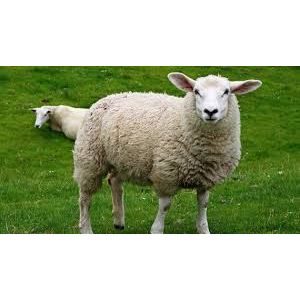sheep: (73, 72, 262, 229), (27, 96, 73, 136)
